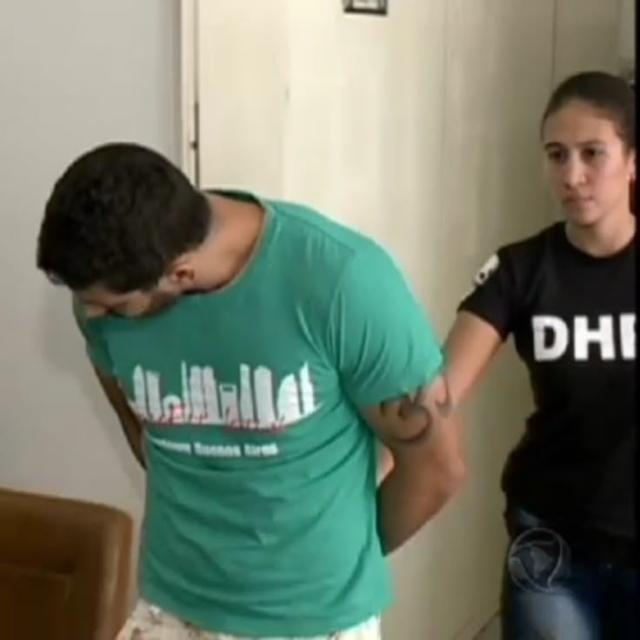9_cabeza_baja: (36, 140, 233, 322)
